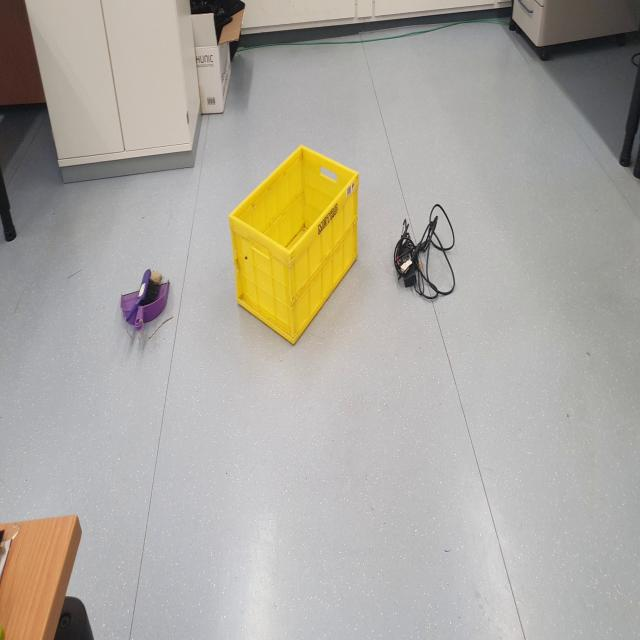box: (226, 144, 367, 354)
